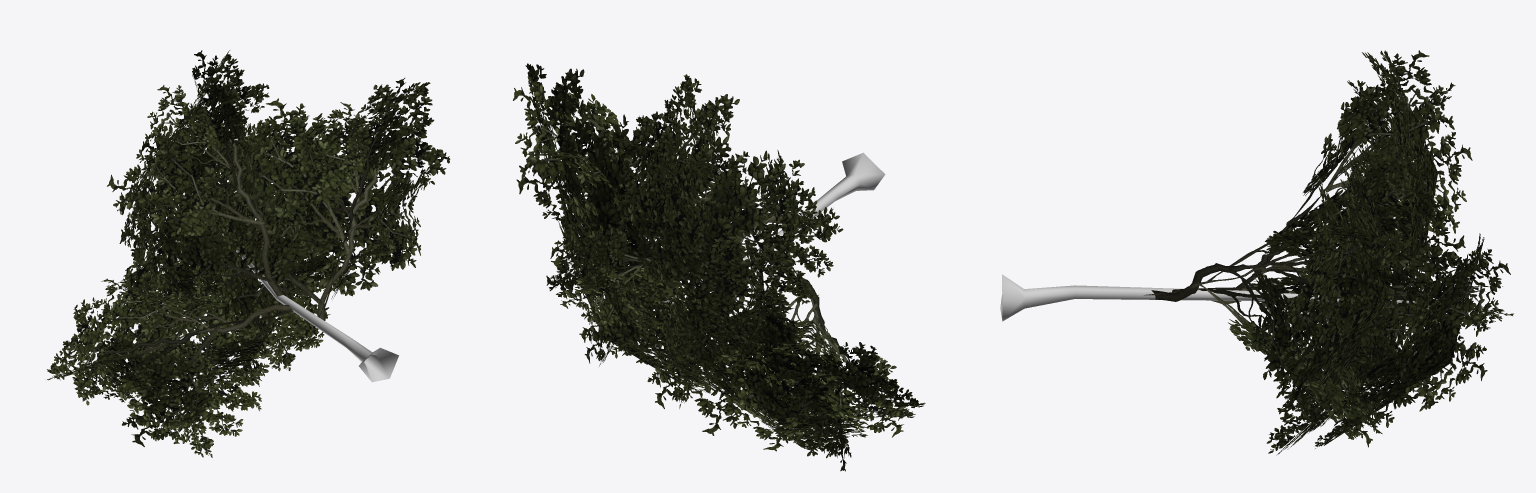
File: MEP_Tree_02_a.fbx
3 views of the same model, side by side, from view 1: azimuth 30°, elevation 25°; view 2: azimuth 150°, elevation 25°; view 3: azimuth 270°, elevation 25° (orthographic). The views are drawn at different scales.
Visible parts, largest first — view 1: MEP_Leafs_02_a, MEP_TreeBark_01_a; view 2: MEP_Leafs_02_a, MEP_TreeBark_01_a; view 3: MEP_Leafs_02_a, MEP_TreeBark_01_a.
Part boxes in pixels (<box>): MEP_Leafs_02_a: <box>47,50,450,457</box>; MEP_TreeBark_01_a: <box>222,233,398,382</box>; MEP_Leafs_02_a: <box>513,63,925,471</box>; MEP_TreeBark_01_a: <box>649,152,885,310</box>; MEP_Leafs_02_a: <box>1144,50,1513,455</box>; MEP_TreeBark_01_a: <box>1000,274,1416,321</box>.
Size of the model in its own units: 17.36 by 15.51 by 14.45.
